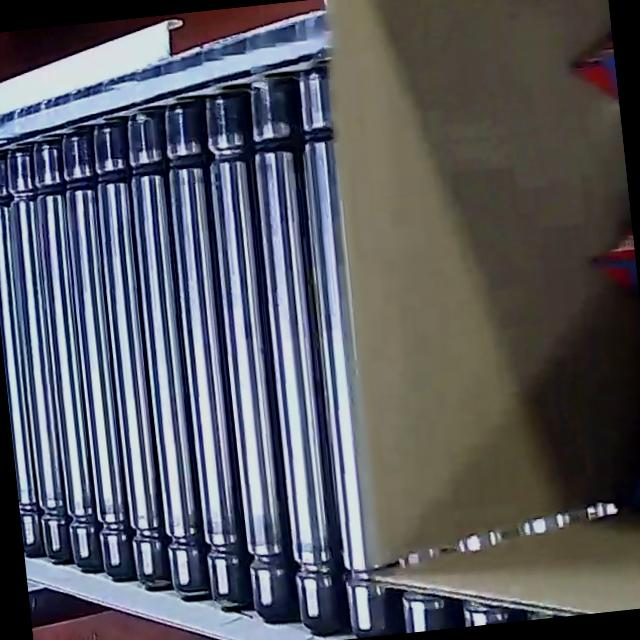paprika: (551, 0, 640, 529)
